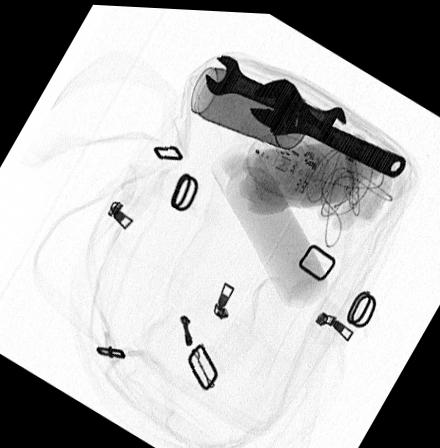Wrench: (247, 75, 405, 175), (202, 50, 346, 139)
